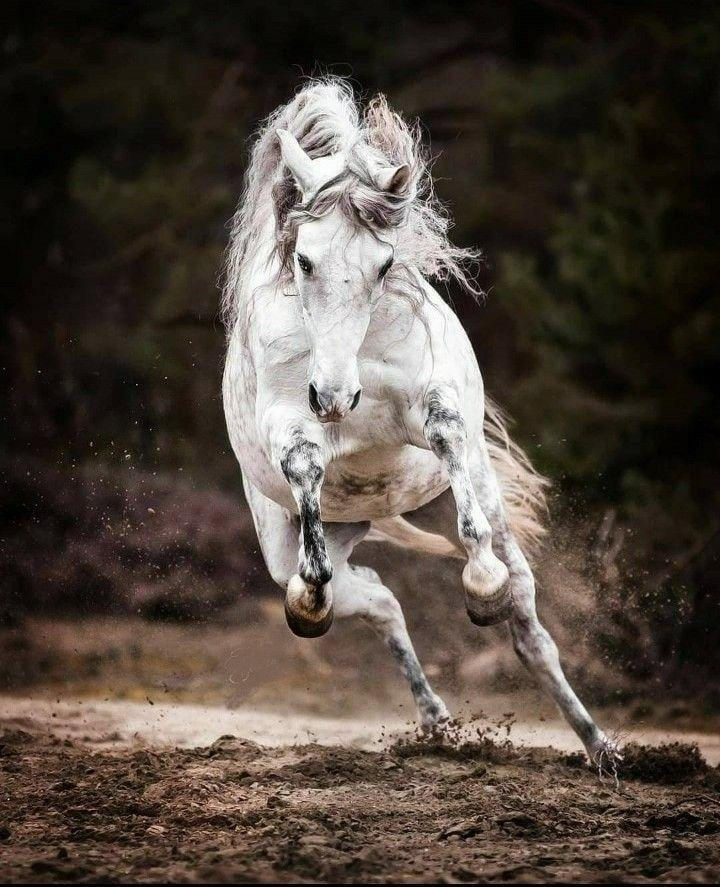horse: (217, 68, 627, 777)
